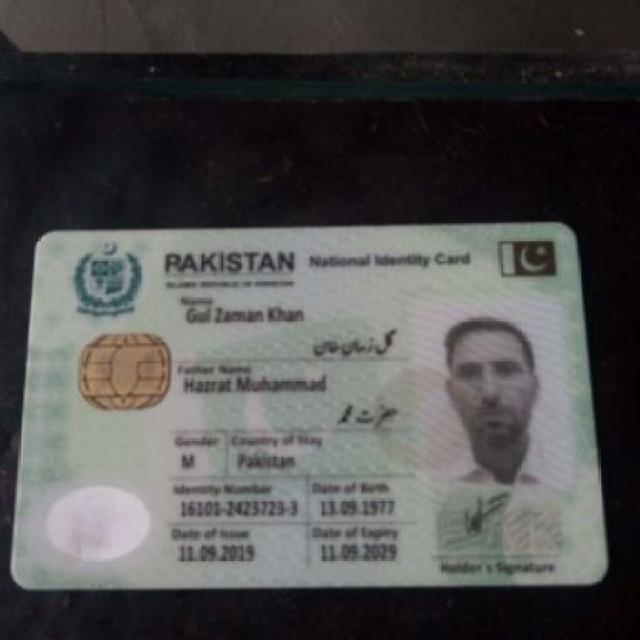Front: (14, 217, 611, 589)
